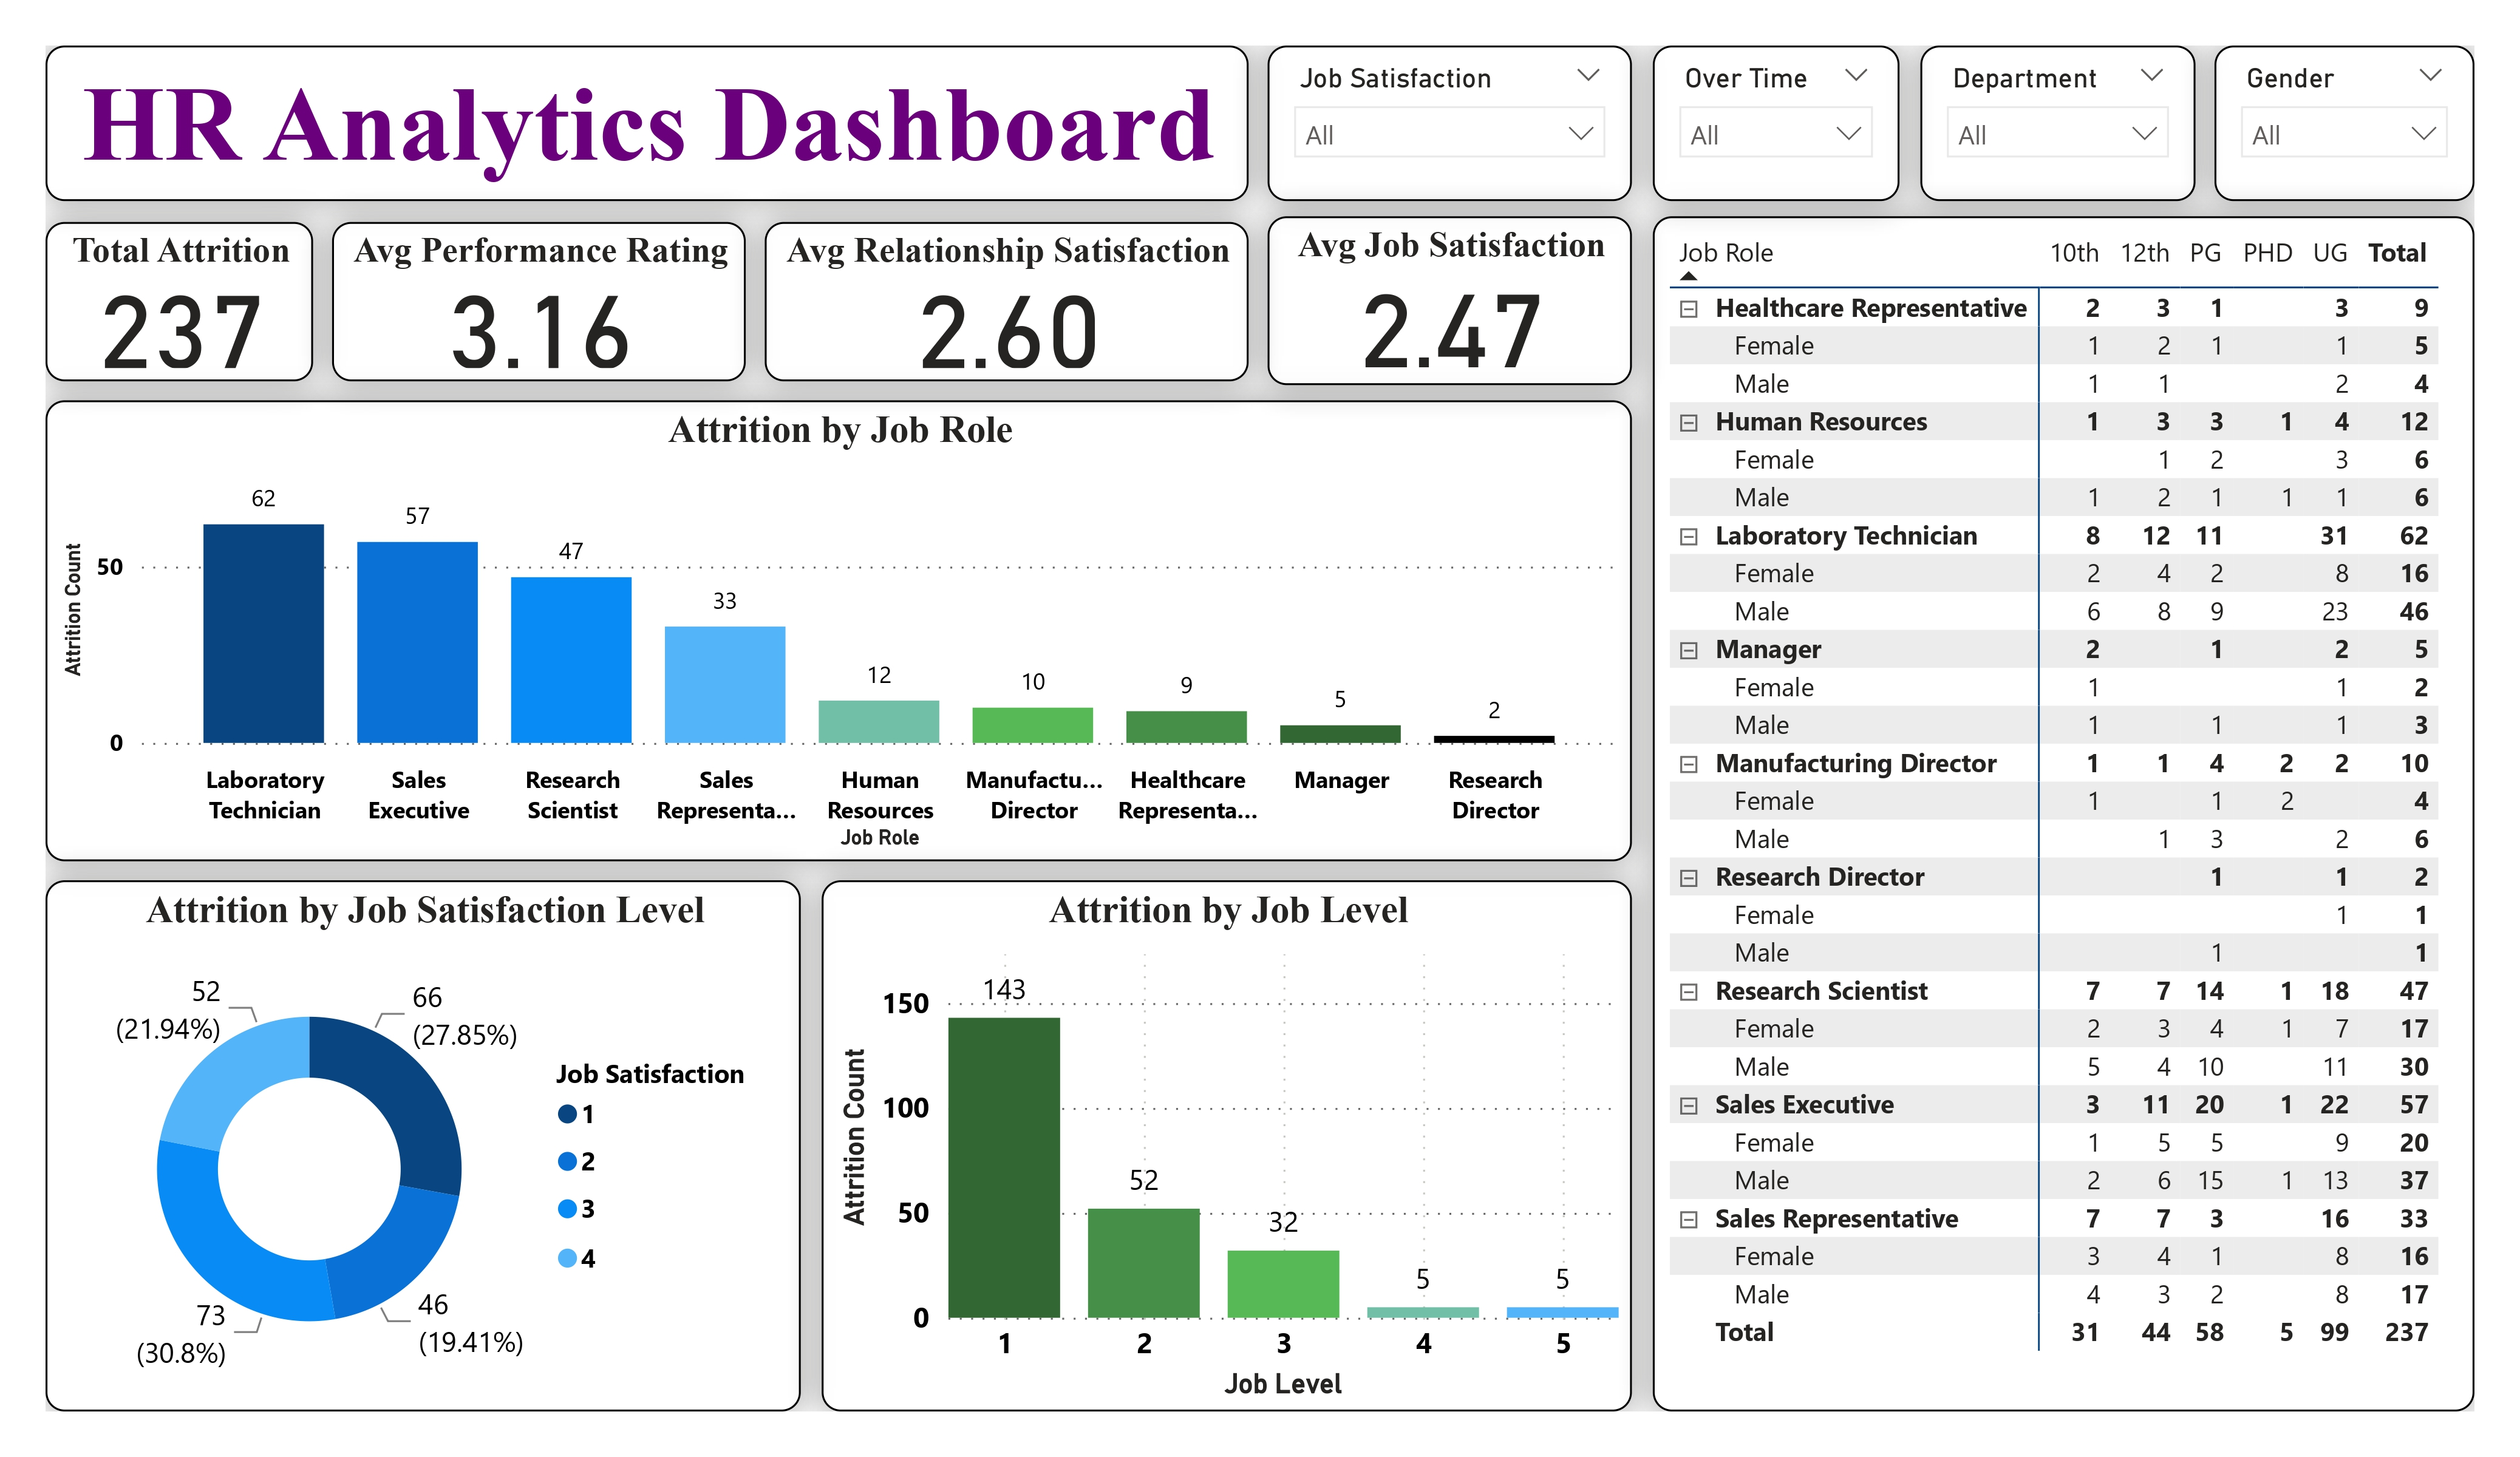

The dashboard page shown, as its layout file describes it:
{"tool":"powerbi","page":{"name":"Page-2","canvas":[1280,720],"ordinal":1},"visuals":[{"type":"clusteredColumnChart","title":"Attrition by Job Role","fields":{"Y":["CountNonNull(Dataset.Attrition)"],"Category":["Dataset.Job Role"]},"box":[0,186.8,836.1,243],"z":0},{"type":"donutChart","title":"Attrition by Job Satisfaction Level","fields":{"Y":["CountNonNull(Dataset.Attrition)"],"Category":["Dataset.Job Satisfaction"]},"box":[0,440.3,398.4,279.6],"z":1000},{"type":"clusteredColumnChart","title":"Attrition by Job Level","fields":{"Y":["CountNonNull(Dataset.Attrition)"],"Category":["Dataset.Job Level"]},"box":[408.9,440.3,427.2,279.6],"z":2000},{"type":"card","title":"Total Attrition","fields":{"Values":["CountNonNull(Dataset.Attrition)"]},"box":[0,92.9,140.7,83.9],"z":3000},{"type":"slicer","fields":{"Values":["Dataset.Department"]},"box":[987.8,0,145,82.2],"z":4000},{"type":"slicer","fields":{"Values":["Dataset.Gender"]},"box":[1143.3,0,136.7,82.2],"z":5000},{"type":"textbox","box":[0,0,634,82.3],"z":6000},{"type":"pivotTable","fields":{"Rows":["Dataset.Job Role","Dataset.Gender"],"Values":["CountNonNull(Dataset.Attrition)"],"Columns":["Dataset.Education"]},"box":[846.7,90,433.3,630],"z":7000},{"type":"slicer","fields":{"Values":["Dataset.Job Satisfaction"]},"box":[644.1,0,192,82.3],"z":8000},{"type":"slicer","fields":{"Values":["Dataset.Over Time"]},"box":[846.7,0,130.6,82.2],"z":9000},{"type":"card","title":"Avg Job Satisfaction","fields":{"Values":["Avg(Dataset.Job Satisfaction Level)"]},"box":[644.1,90.1,192,88.8],"z":10000},{"type":"card","title":"Avg Performance Rating","fields":{"Values":["Avg(Dataset.Performance Rating)"]},"box":[151,92.9,218.1,83.9],"z":11000},{"type":"card","title":"Avg Relationship Satisfaction","fields":{"Values":["Avg(Dataset.Relationship Satisfaction)"]},"box":[379.4,92.9,254.2,83.9],"z":12000}]}

Visuals, with their boxes in screenshot pixels (x1, y1, x2, y2):
"Attrition by Job Role" clusteredColumnChart: 46 400 1632 861
"Attrition by Job Satisfaction Level" donutChart: 46 881 802 1411
"Attrition by Job Level" clusteredColumnChart: 822 881 1632 1411
"Total Attrition" card: 46 222 313 381
slicer - Dataset.Department: 1920 46 2195 202
slicer - Dataset.Gender: 2215 46 2474 202
textbox: 46 46 1248 202
pivotTable - Dataset.Job Role x Dataset.Gender: 1652 216 2474 1411
slicer - Dataset.Job Satisfaction: 1268 46 1632 202
slicer - Dataset.Over Time: 1652 46 1900 202
"Avg Job Satisfaction" card: 1268 217 1632 385
"Avg Performance Rating" card: 332 222 746 381
"Avg Relationship Satisfaction" card: 766 222 1248 381
